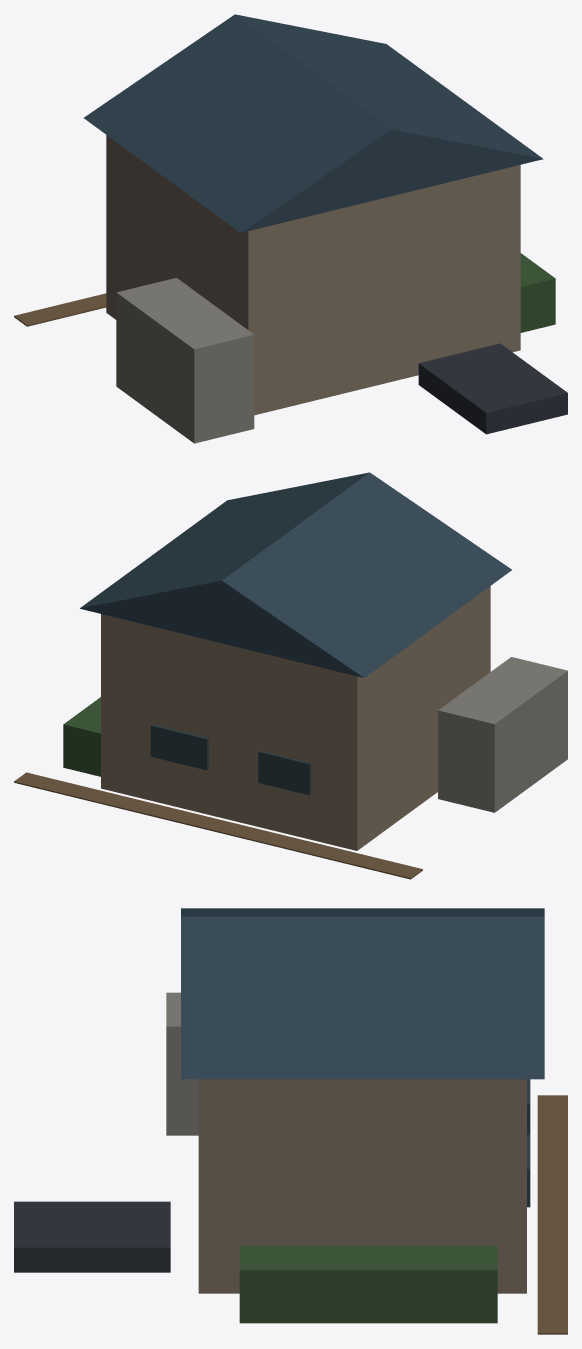
The model's file is residential_002.obj.
3 views of the same model, one above another, from view 1: azimuth 30°, elevation 25°; view 2: azimuth 150°, elevation 25°; view 3: azimuth 270°, elevation 25° (orthographic). The views are drawn at different scales.
Parts seen in each view (by area): view 1: residential_002; view 2: residential_002; view 3: residential_002.
Boxes of the visible parts, left/top/right/bottom form: residential_002: left=14, top=14, right=567, bottom=443; residential_002: left=14, top=472, right=567, bottom=879; residential_002: left=14, top=908, right=567, bottom=1334.
Size of the model in its own units: 9.6 by 5.65 by 9.45.
